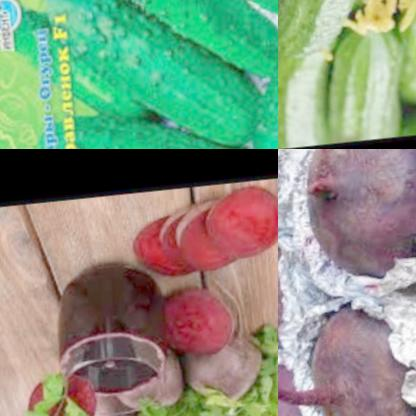beet: (292, 149, 416, 299), (300, 304, 416, 416), (178, 339, 259, 416), (203, 191, 278, 267), (160, 293, 235, 369), (169, 207, 238, 287), (127, 215, 191, 286), (110, 360, 183, 416), (18, 376, 94, 416), (278, 242, 293, 350), (71, 396, 143, 416)
cucumber: (23, 0, 278, 149), (326, 0, 416, 145), (278, 23, 336, 149), (278, 0, 372, 72)
